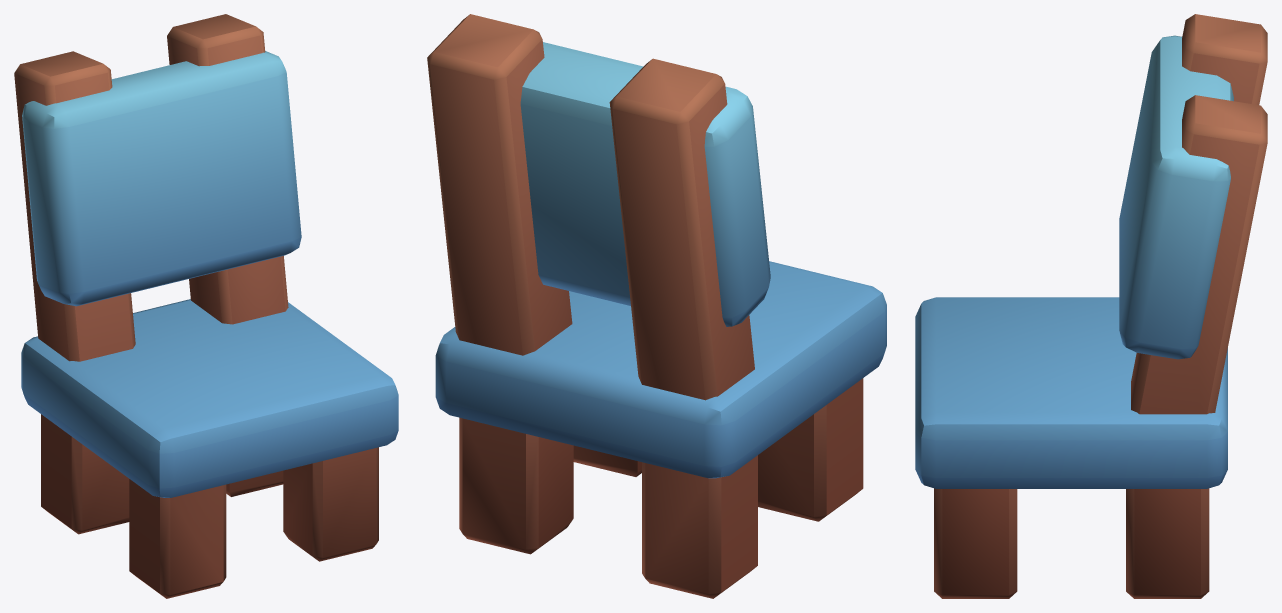
The model's file is chair-b.glb.
3 renders of one model, left to right at view 1: azimuth 30°, elevation 25°; view 2: azimuth 150°, elevation 25°; view 3: azimuth 270°, elevation 25°, orthographic. The views are drawn at different scales.
Parts seen in each view (by area): view 1: chair_B; view 2: chair_B; view 3: chair_B.
Boxes of the visible parts, x1,y1,x2,y2 form: chair_B: (14,14,398,598); chair_B: (427,14,886,598); chair_B: (915,14,1267,598).
Size of the model in its own units: 0.75 by 1.26 by 0.8451.
